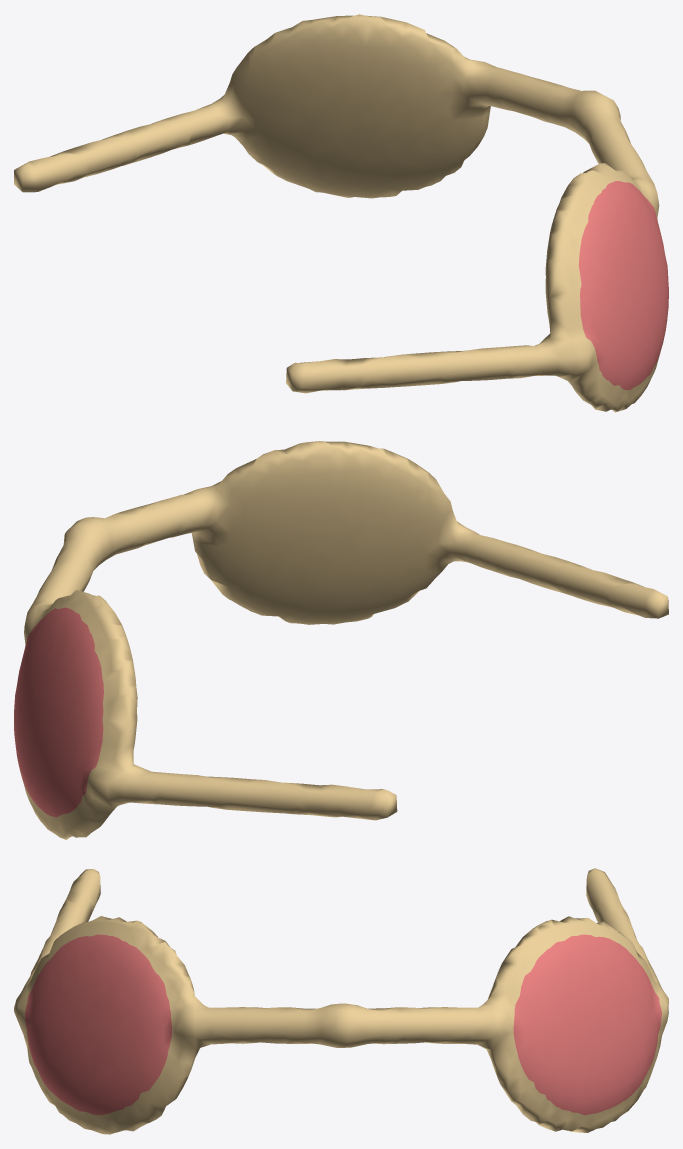
The model's file is acc_sunglasses.glb.
The picture shows the model from 3 angles, top to bottom: view 1: azimuth 30°, elevation 25°; view 2: azimuth 150°, elevation 25°; view 3: azimuth 270°, elevation 25°; orthographic projection. The views are drawn at different scales.
Parts seen in each view (by area): view 1: body; view 2: body; view 3: body.
Boxes of the visible parts, x1,y1,x2,y2 form: body: [14, 14, 668, 412]; body: [14, 441, 668, 839]; body: [14, 868, 668, 1134].
Bounding box in the file's own units: 0.5881 × 0.2535 × 0.7757.
